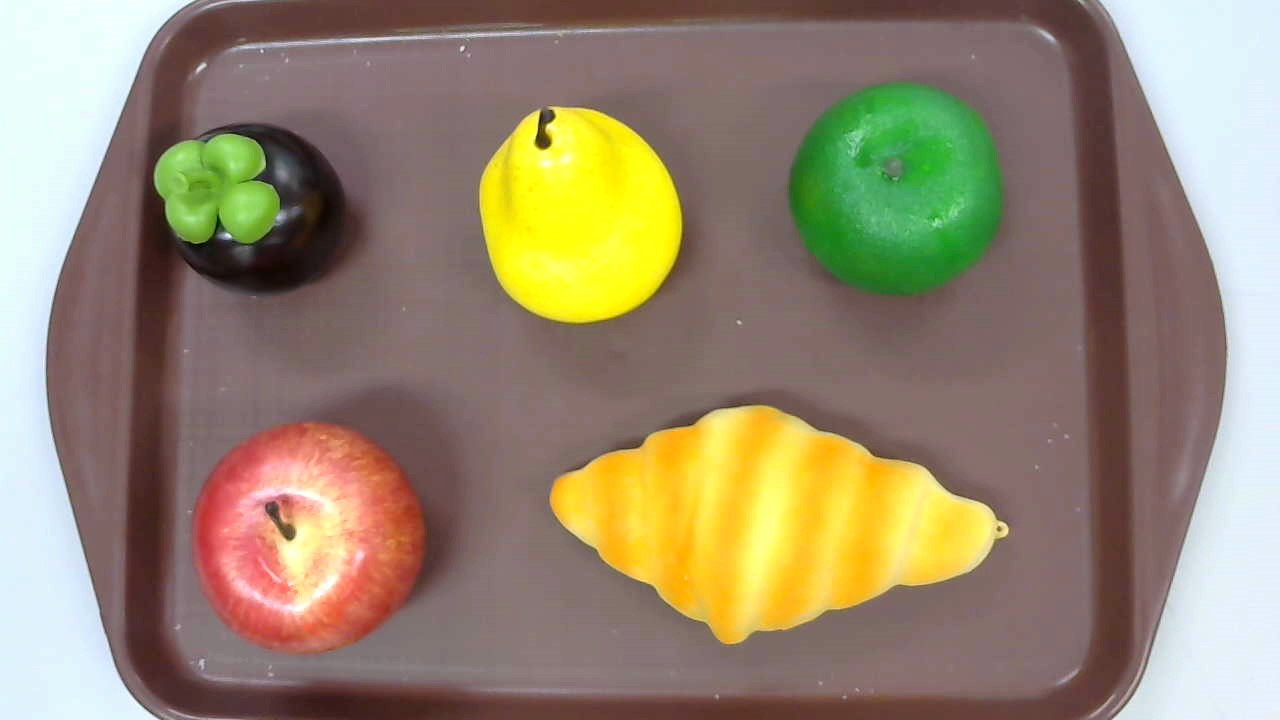croissant: (550, 404, 1009, 644)
green orange: (790, 80, 1003, 297)
mangosteen: (152, 123, 347, 297)
red apple: (191, 420, 426, 659)
yellow pear: (478, 106, 684, 325)
